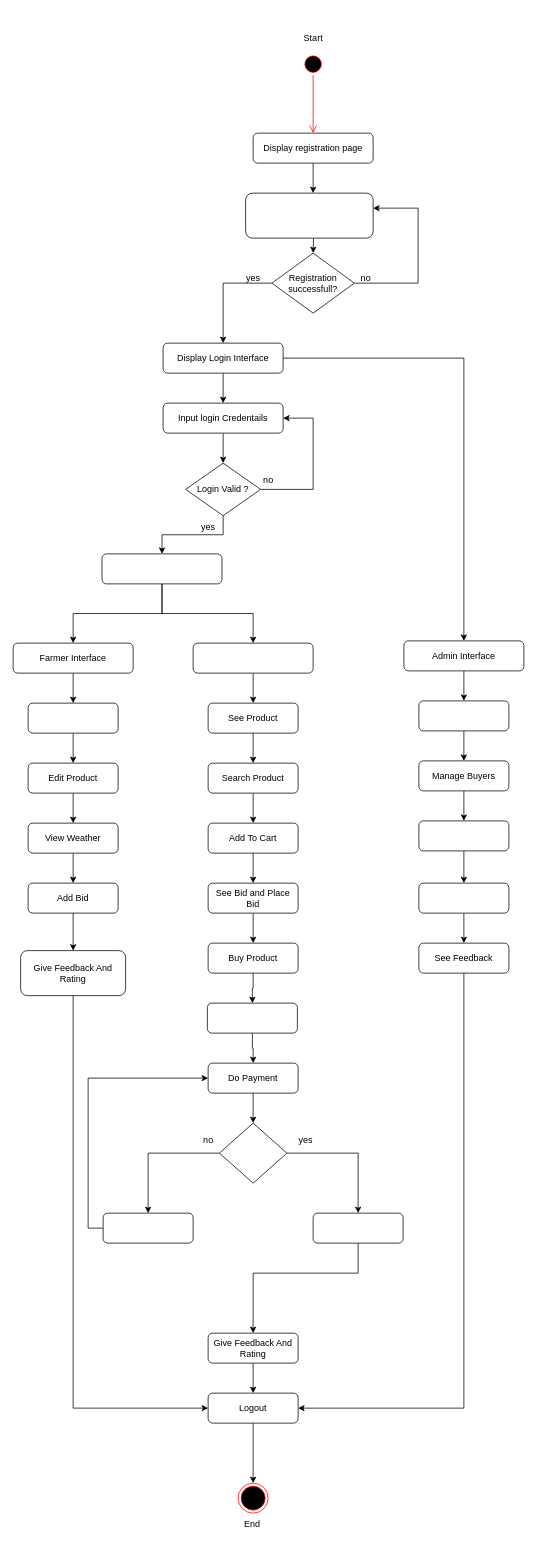
The diagram is 537 pixels wide and 1548 high, and some of its shapes have lost their labels. The shapes that lost their labels are listed below. From the top down, each one's centre as x and y in pixels, then its label:
At point (309, 215): "Input Registration Credentials".
At point (161, 568): "User Type Farmer/Buyer?".
At point (252, 657): "Buyer Interface".
At point (72, 717): "Add Product".
At point (463, 715): "Manage Farmers".
At point (463, 835): "Manage Bid".
At point (463, 897): "Manage Transaction".
At point (252, 1017): "See Total Price".
At point (253, 1152): "Payment Success ?".
At point (147, 1227): "Retry Payment".
At point (357, 1227): "Payment Completed Successfully".
